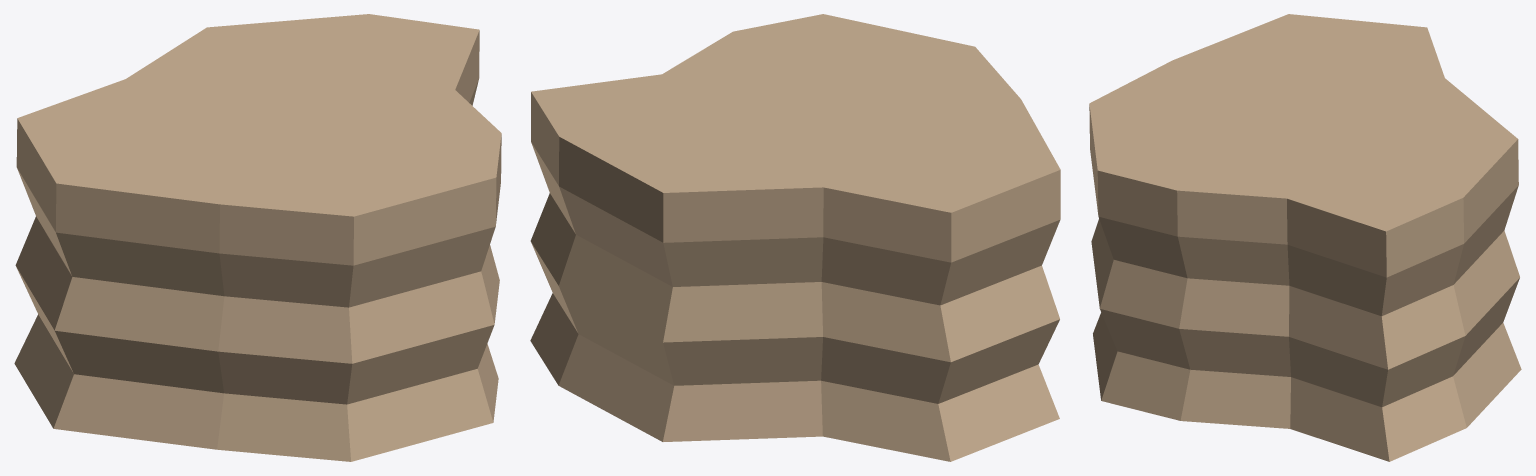
The model's file is flat_rock_medium_02.fbx.
The picture shows the model from 3 angles, left to right: view 1: azimuth 30°, elevation 25°; view 2: azimuth 150°, elevation 25°; view 3: azimuth 270°, elevation 25°; orthographic projection. The views are drawn at different scales.
Visible parts, largest first — view 1: flat_rock_medium_02; view 2: flat_rock_medium_02; view 3: flat_rock_medium_02.
Boxes of the visible parts, <box> form: flat_rock_medium_02: <box>14,14,501,461</box>; flat_rock_medium_02: <box>530,14,1060,461</box>; flat_rock_medium_02: <box>1089,14,1521,461</box>.
Size of the model in its own units: 260 by 133 by 218.
